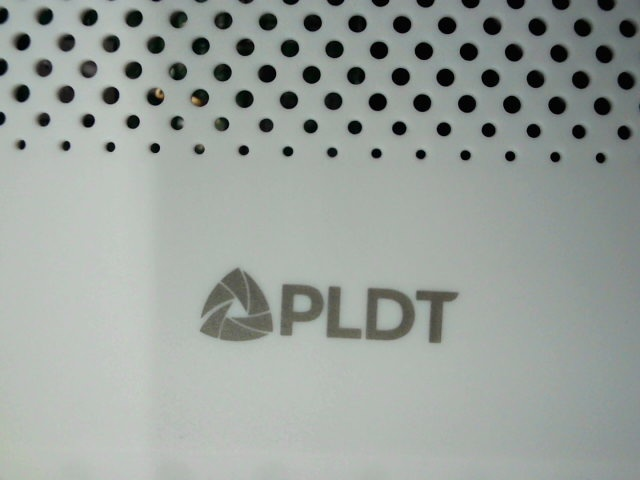BH_PLDT: (185, 251, 485, 361)
